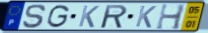G: (45, 4, 71, 29)
H: (155, 3, 187, 31)
K: (134, 4, 159, 29), (77, 4, 102, 29)
R: (101, 4, 129, 29)
S: (22, 3, 48, 29)
